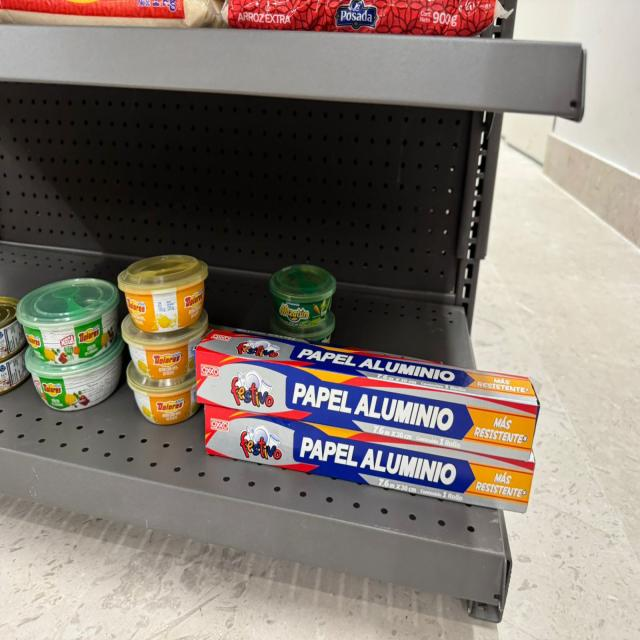Arroz La Posada 900 gr: (226, 0, 499, 36)
Atun Mazatun Agua Sin Soya 130grs: (0, 297, 26, 359), (0, 348, 29, 393)
Azucar Estandar La Posada 1 kg: (0, 0, 231, 28)
DOLORES ENSALADA CON VERDURAS MAXI CUP CAN 240gr: (17, 278, 120, 366), (25, 339, 123, 411)
Dolores SURFY Cup Can Elotitos 24135 gr: (118, 255, 208, 332), (122, 309, 208, 380), (127, 361, 198, 423)
Ensalada Atun Mazatun CupCan: (270, 265, 336, 331), (270, 311, 335, 343)
Papel aluminio festivo rollo 76 m X 30 cm pz: (195, 330, 540, 462), (205, 404, 535, 514)
